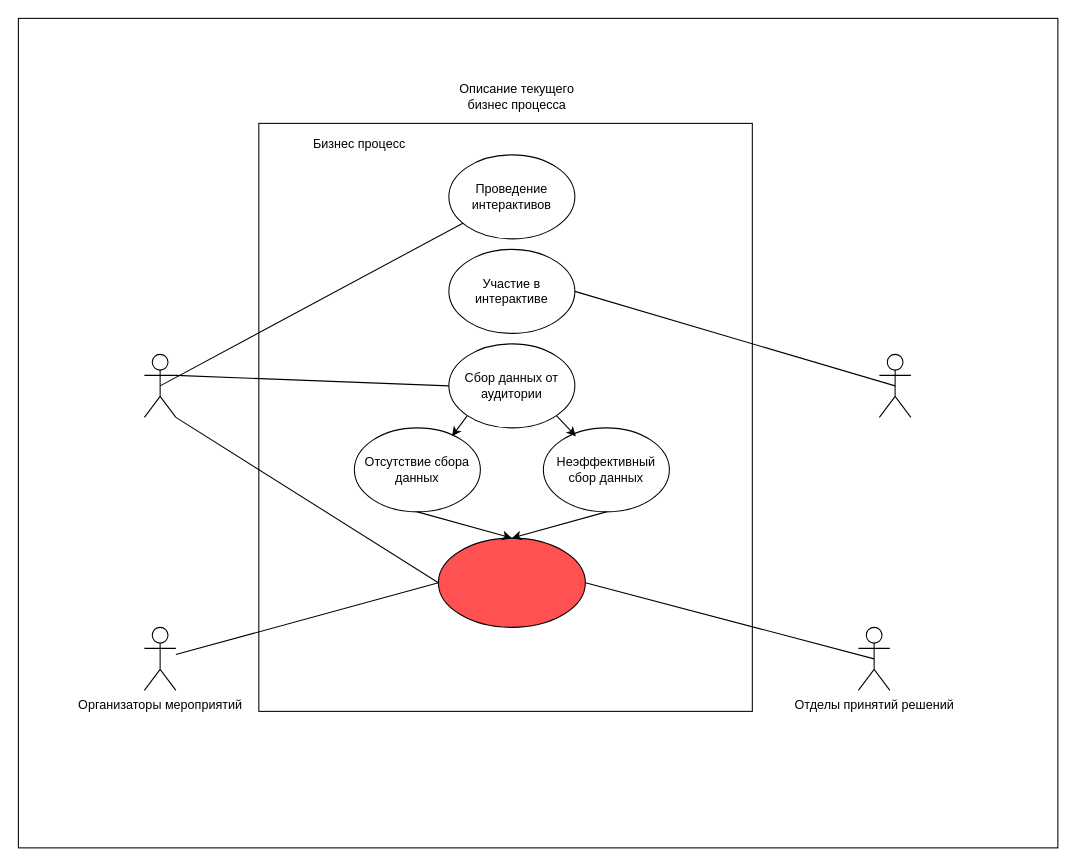
Some shapes in this 1076 by 866 pixel diagram are drawn without their labels. Here are the shapes that lost their labels. From the top down, the centre of each, then its label:
[159,385]: Ведущий мастер-классов
[894,385]: Аудитория мастер-классов
[511,582]: Отсутствие данных/ Непрезентативные данные
